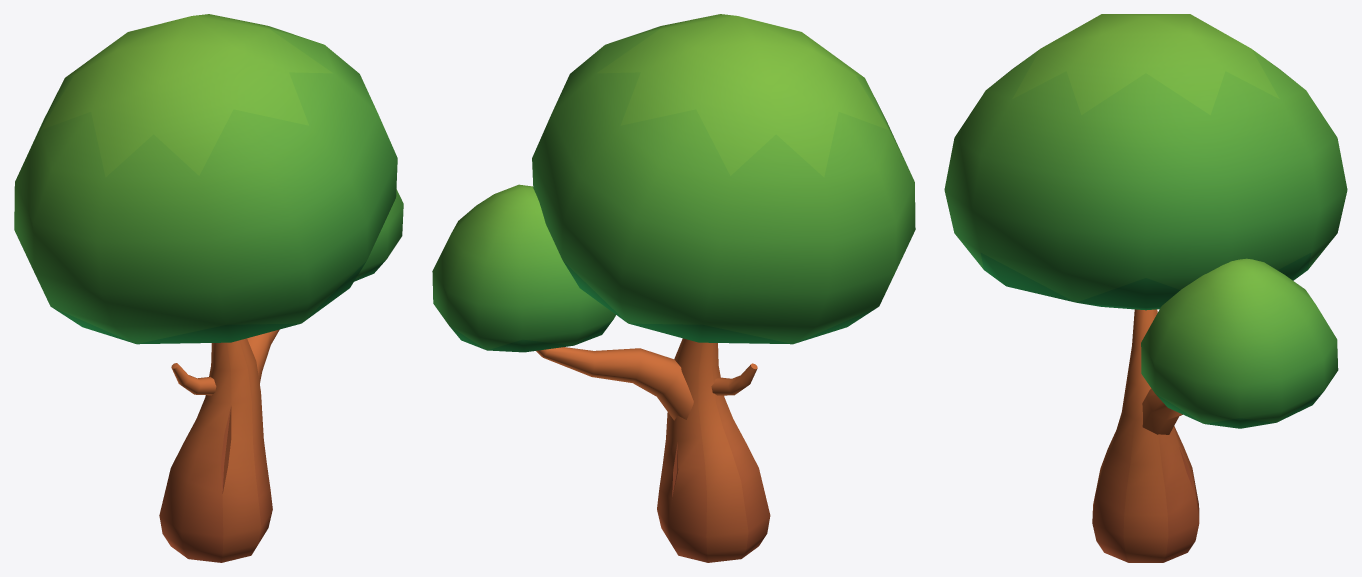
Rendered from Tree1.glb.
The picture shows the model from 3 angles, left to right: view 1: azimuth 30°, elevation 25°; view 2: azimuth 150°, elevation 25°; view 3: azimuth 270°, elevation 25°; orthographic projection.
Parts seen in each view (by area): view 1: Tree_1_B_Color1; view 2: Tree_1_B_Color1; view 3: Tree_1_B_Color1.
Boxes of the visible parts, box(x1,y1,x2,y2) form: Tree_1_B_Color1: box(14, 14, 403, 562); Tree_1_B_Color1: box(432, 14, 915, 562); Tree_1_B_Color1: box(944, 14, 1347, 562).
Bounding box in the file's own units: 4.01 × 4.93 × 3.45.
Materials: 1 (1 with a texture image).
